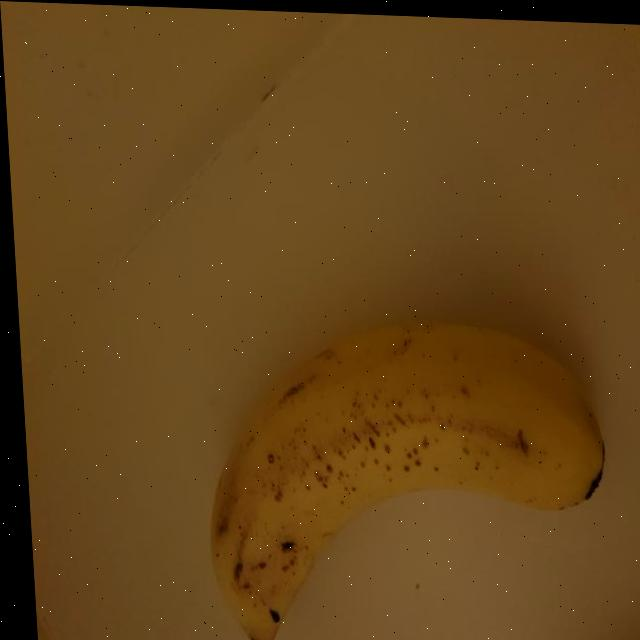banana: (182, 292, 625, 640)
